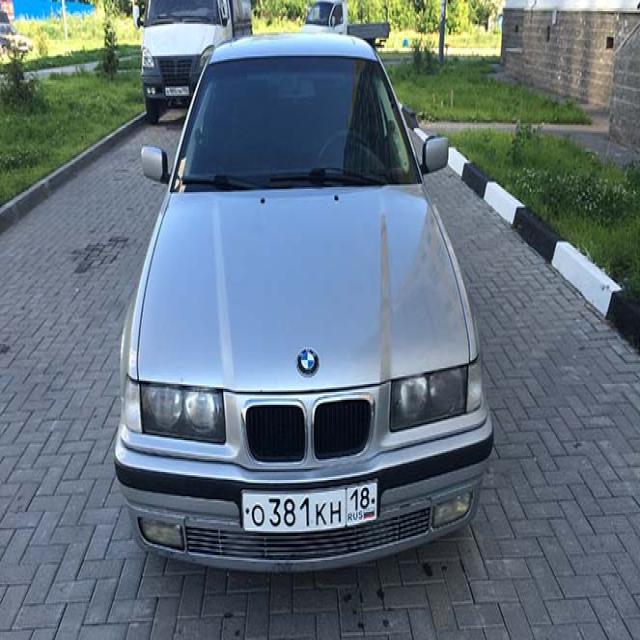number-plates: (241, 476, 379, 540)
